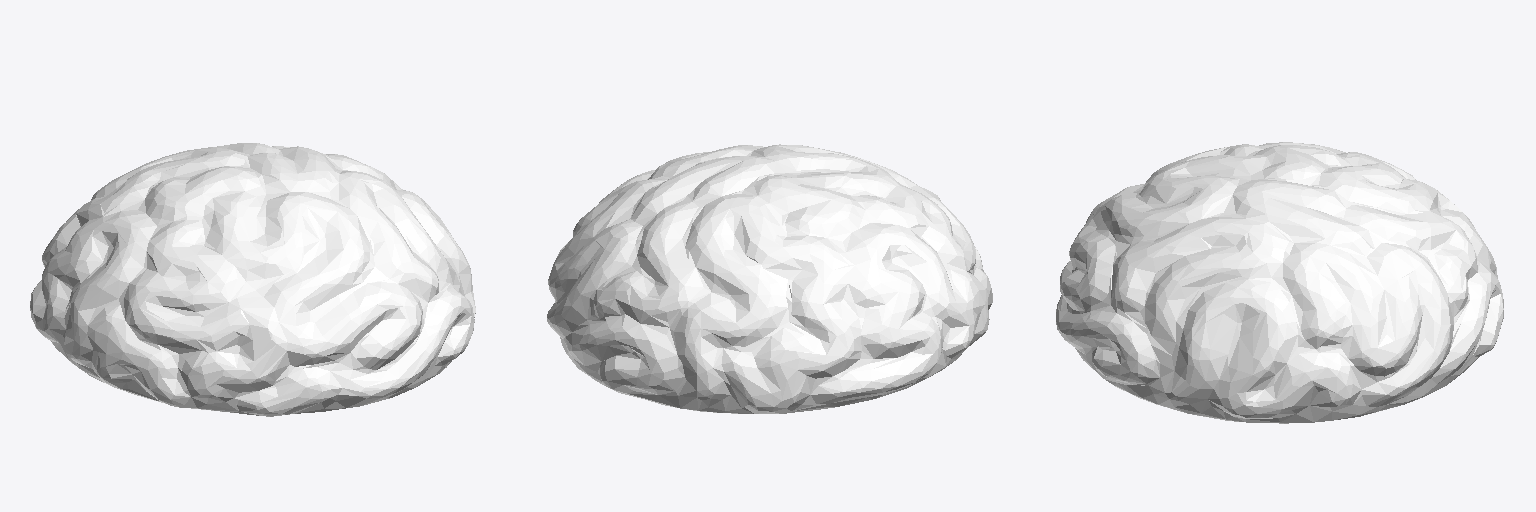
The model's file is BrainCoral01.obj.
3 views of the same model, side by side, from view 1: azimuth 30°, elevation 25°; view 2: azimuth 150°, elevation 25°; view 3: azimuth 270°, elevation 25° (orthographic).
Parts seen in each view (by area): view 1: Volume60; view 2: Volume60; view 3: Volume60.
Part boxes in pixels (x1,y1,x2,y2): Volume60: (30, 143, 475, 416); Volume60: (547, 144, 992, 413); Volume60: (1056, 142, 1503, 423).
Size of the model in its own units: 99.32 by 40.27 by 99.19.